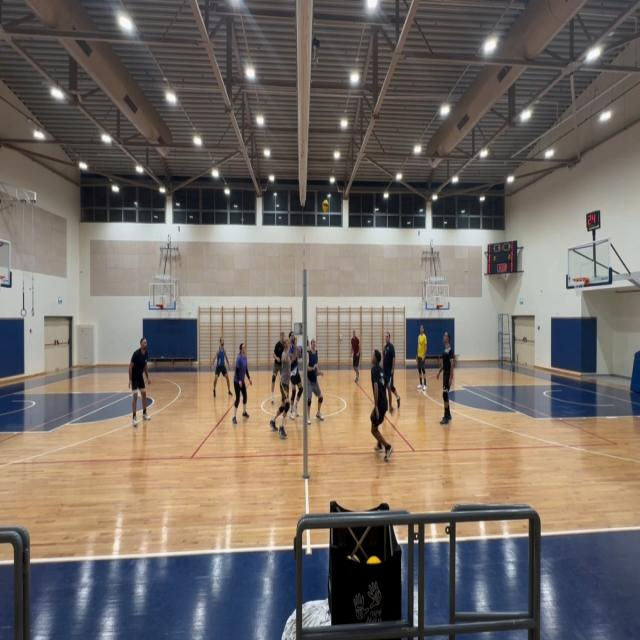volleyball: (322, 200, 329, 212)
